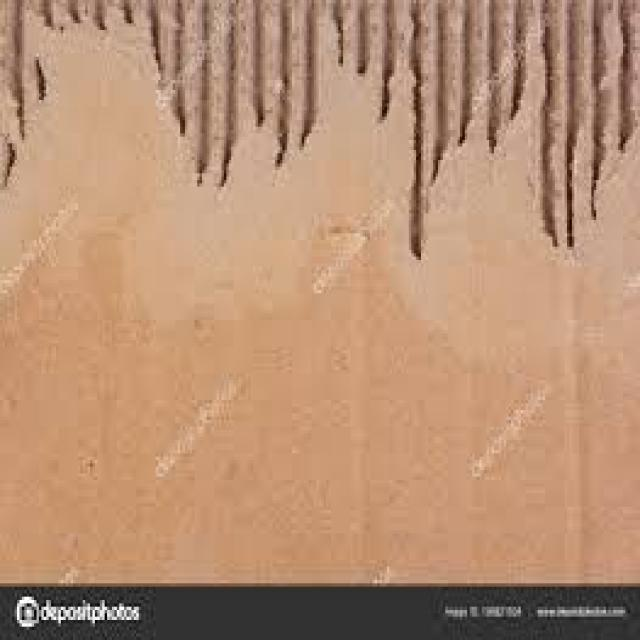cardboard: (0, 0, 638, 580)
